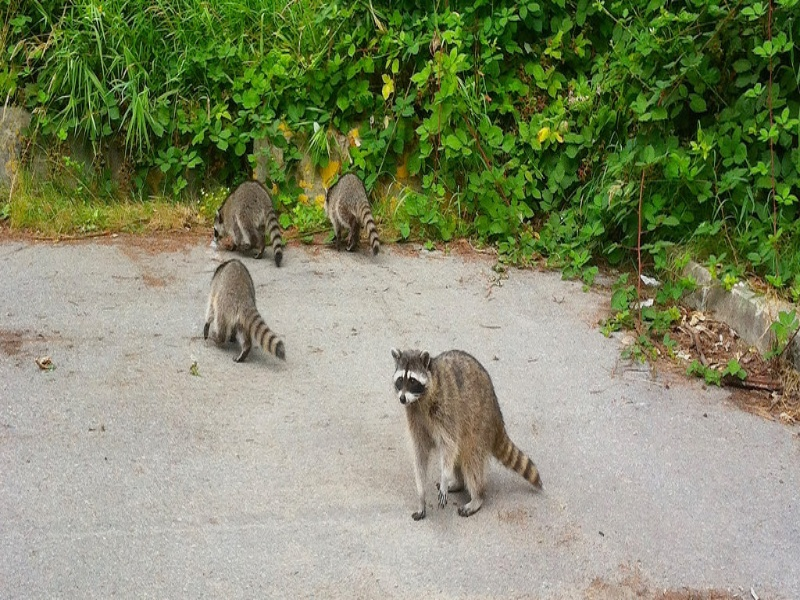raccoon: (387, 345, 550, 525), (199, 260, 290, 369), (212, 180, 289, 266), (322, 173, 385, 261)
